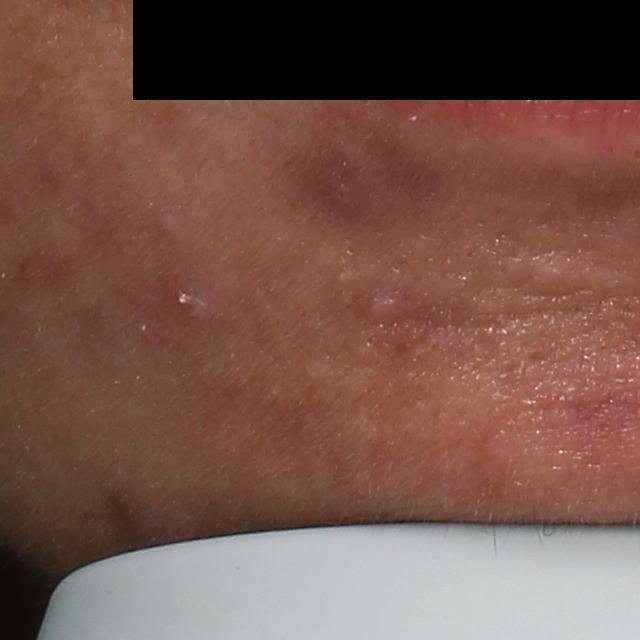comedo: (150, 211, 182, 238)
hypertrophic_scar: (514, 248, 619, 302)
papule: (354, 287, 402, 326)
